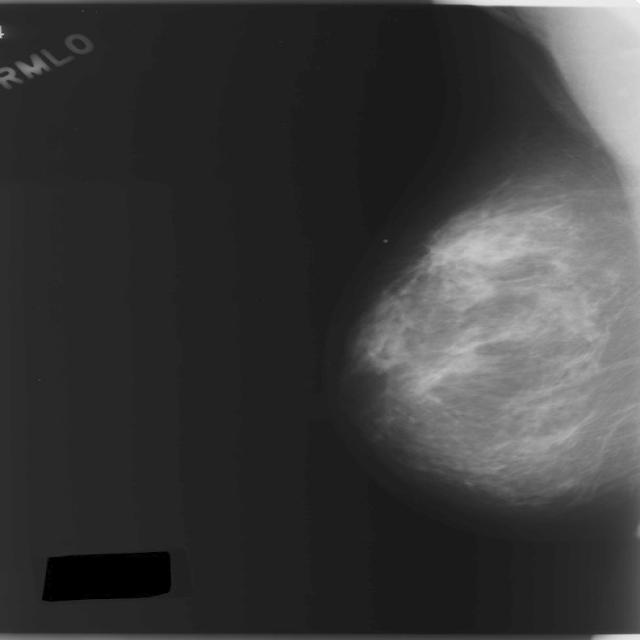tumour: (419, 217, 515, 277)
